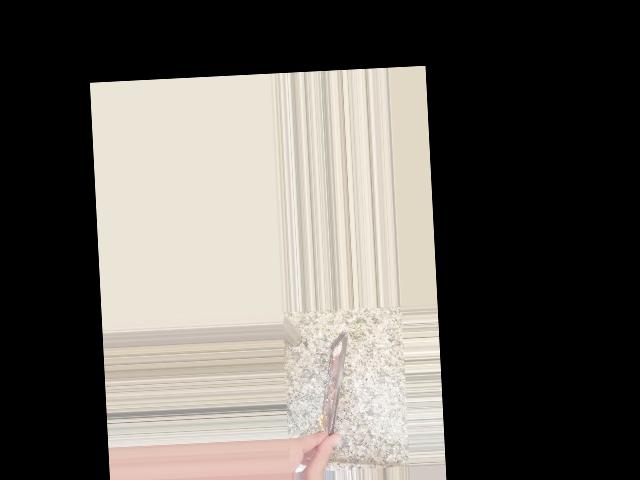chocolate: (306, 331, 359, 449)
